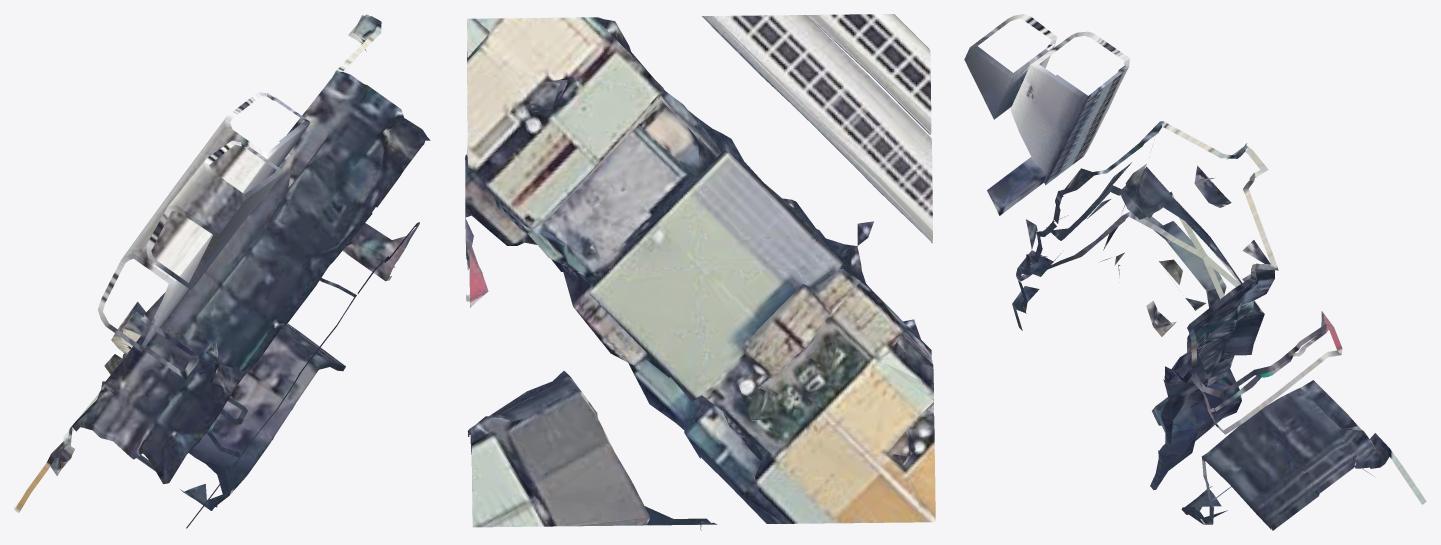
3 views of the same model, side by side, from view 1: azimuth 30°, elevation 25°; view 2: azimuth 150°, elevation 25°; view 3: azimuth 270°, elevation 25° (orthographic). The views are drawn at different scales.
Size of the model in its own units: 40.28 by 40.11 by 36.02.
2 materials, 2 textured.
